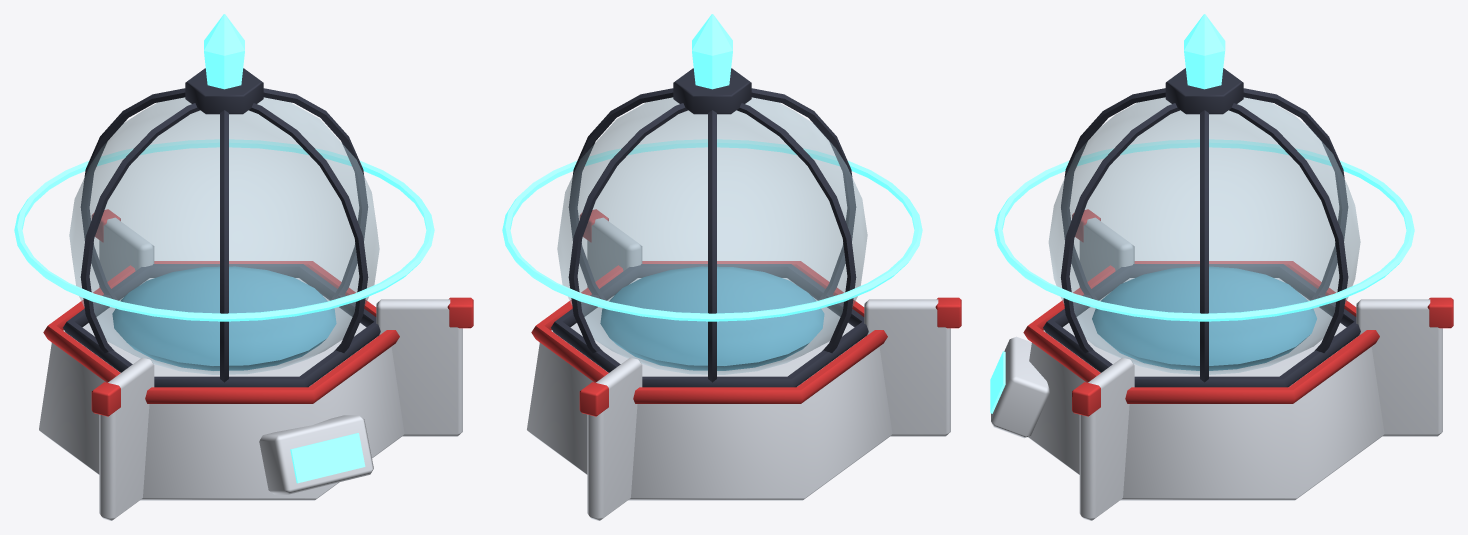
Rendered from incubator-advanced.glb.
3 views of the same model, side by side, from view 1: azimuth 30°, elevation 25°; view 2: azimuth 150°, elevation 25°; view 3: azimuth 270°, elevation 25° (orthographic).
Parts seen in each view (by area): view 1: IncubatorAdvanced_Glass, IncubatorAdvanced_Base, IncubatorAdvanced_Frame, IncubatorAdvanced_Bedding, IncubatorAdvanced_Light, IncubatorAdvanced_Accent, IncubatorAdvanced_Crystal; view 2: IncubatorAdvanced_Glass, IncubatorAdvanced_Base, IncubatorAdvanced_Frame, IncubatorAdvanced_Bedding, IncubatorAdvanced_Accent, IncubatorAdvanced_Light, IncubatorAdvanced_Crystal; view 3: IncubatorAdvanced_Glass, IncubatorAdvanced_Base, IncubatorAdvanced_Frame, IncubatorAdvanced_Bedding, IncubatorAdvanced_Accent, IncubatorAdvanced_Light, IncubatorAdvanced_Crystal.
Boxes of the visible parts, left/top/right/bottom form: IncubatorAdvanced_Glass: left=69, top=97, right=379, bottom=374; IncubatorAdvanced_Base: left=39, top=217, right=462, bottom=520; IncubatorAdvanced_Frame: left=63, top=68, right=380, bottom=387; IncubatorAdvanced_Bedding: left=112, top=266, right=336, bottom=370; IncubatorAdvanced_Light: left=14, top=139, right=434, bottom=483; IncubatorAdvanced_Accent: left=43, top=209, right=473, bottom=416; IncubatorAdvanced_Crystal: left=204, top=14, right=244, bottom=89; IncubatorAdvanced_Glass: left=557, top=97, right=867, bottom=374; IncubatorAdvanced_Base: left=527, top=217, right=950, bottom=520; IncubatorAdvanced_Frame: left=551, top=68, right=868, bottom=387; IncubatorAdvanced_Bedding: left=600, top=266, right=824, bottom=370; IncubatorAdvanced_Accent: left=531, top=209, right=961, bottom=416; IncubatorAdvanced_Light: left=502, top=139, right=922, bottom=321; IncubatorAdvanced_Crystal: left=692, top=14, right=732, bottom=89; IncubatorAdvanced_Glass: left=1048, top=97, right=1360, bottom=374; IncubatorAdvanced_Base: left=991, top=217, right=1442, bottom=520; IncubatorAdvanced_Frame: left=1043, top=68, right=1360, bottom=387; IncubatorAdvanced_Bedding: left=1092, top=266, right=1316, bottom=370; IncubatorAdvanced_Accent: left=1023, top=209, right=1453, bottom=416; IncubatorAdvanced_Light: left=990, top=139, right=1414, bottom=413; IncubatorAdvanced_Crystal: left=1184, top=14, right=1225, bottom=89.
Size of the model in its own units: 10.15 by 10.7 by 10.7.
